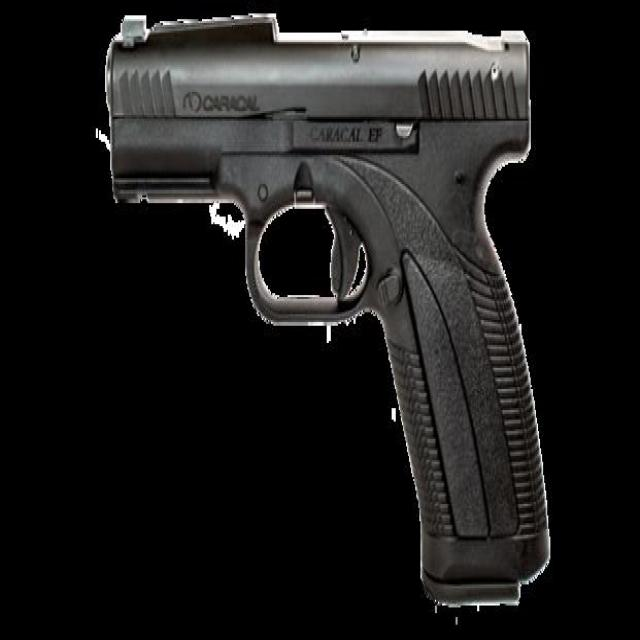Gun: (99, 10, 580, 598)
